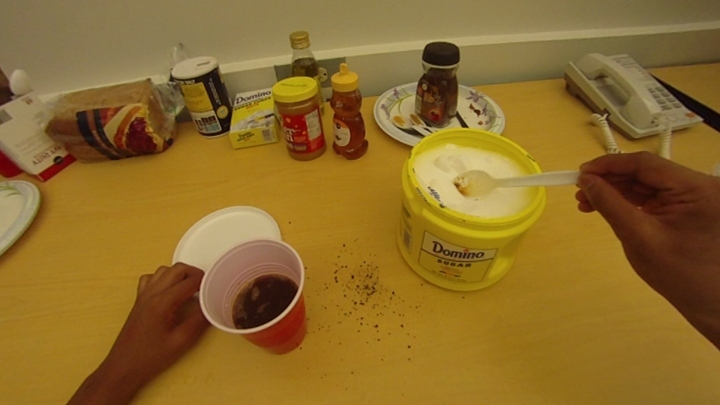hand: (575, 150, 720, 334), (120, 261, 208, 366)
